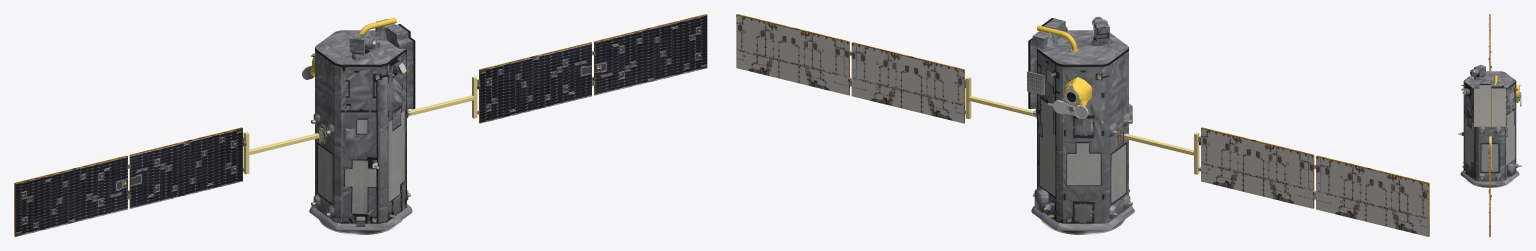
File: oco2.glb
3 views of the same model, side by side, from view 1: azimuth 30°, elevation 25°; view 2: azimuth 150°, elevation 25°; view 3: azimuth 270°, elevation 25° (orthographic). The views are drawn at different scales.
Visible parts, largest first — view 1: shiny_panel, foil_grey, foil_top&bottom, tex_02, tex_01, struts; view 2: tex_01, foil_grey, foil_top&bottom, tex_02, struts, AO, foil_gold; view 3: foil_grey, tex_01, tex_02, foil_top&bottom, struts, AO, foil_gold.
Part boxes in pixels (bbox=[...]): shiny_panel: bbox=[15, 15, 707, 236]; foil_grey: bbox=[313, 25, 408, 223]; foil_top&bottom: bbox=[309, 19, 415, 231]; tex_02: bbox=[317, 110, 405, 214]; tex_01: bbox=[14, 14, 706, 236]; struts: bbox=[243, 76, 477, 174]; tex_01: bbox=[736, 14, 1429, 236]; foil_grey: bbox=[1034, 18, 1132, 223]; foil_top&bottom: bbox=[1028, 18, 1134, 231]; tex_02: bbox=[1039, 69, 1127, 205]; struts: bbox=[965, 77, 1199, 174]; AO: bbox=[1044, 84, 1088, 210]; foil_gold: bbox=[1063, 77, 1092, 107]; foil_grey: bbox=[1462, 64, 1517, 181]; tex_01: bbox=[1461, 14, 1520, 236]; tex_02: bbox=[1465, 90, 1515, 172]; foil_top&bottom: bbox=[1460, 71, 1519, 185]; struts: bbox=[1489, 136, 1491, 169]; AO: bbox=[1458, 84, 1521, 167]; foil_gold: bbox=[1516, 85, 1519, 102].
Bounding box in the file's own units: 8.13 × 2.16 × 1.13.
9 materials, 6 textured.
